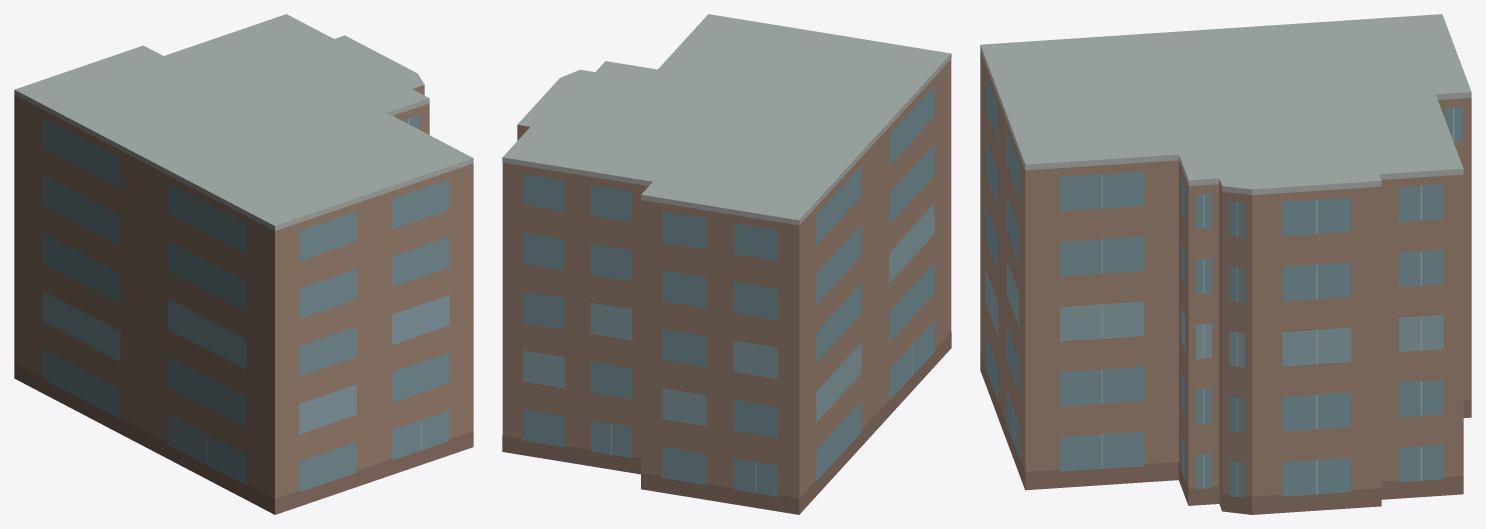
File: survey-upis-32624718.glb
The picture shows the model from 3 angles, left to right: view 1: azimuth 30°, elevation 25°; view 2: azimuth 150°, elevation 25°; view 3: azimuth 270°, elevation 25°; orthographic projection. The views are drawn at different scales.
Parts seen in each view (by area): view 1: survey-upis-32624718.tmp; view 2: survey-upis-32624718.tmp; view 3: survey-upis-32624718.tmp.
Part boxes in pixels (box(x1,y1,x2,y2)): survey-upis-32624718.tmp: box(14, 14, 473, 514); survey-upis-32624718.tmp: box(502, 14, 951, 514); survey-upis-32624718.tmp: box(980, 14, 1471, 514).
Size of the model in its own units: 16.08 by 13.9 by 19.03.
